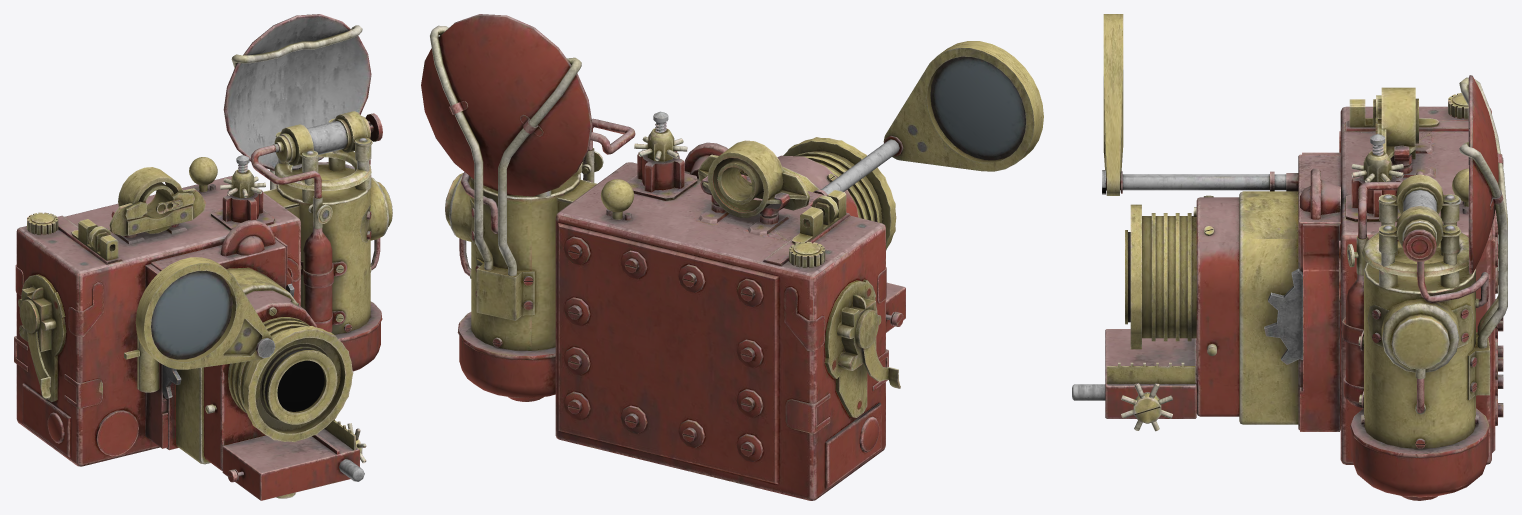
Rendered from SteampunkCamera.glb.
3 views of the same model, side by side, from view 1: azimuth 30°, elevation 25°; view 2: azimuth 150°, elevation 25°; view 3: azimuth 270°, elevation 25° (orthographic). The views are drawn at different scales.
Visible parts, largest first — view 1: defaultMaterial (×3); view 2: defaultMaterial (×3); view 3: defaultMaterial (×3).
Part boxes in pixels (x1=…): defaultMaterial (×3): x1=14, y1=14, x2=392, y2=500; defaultMaterial (×3): x1=421, y1=14, x2=1043, y2=500; defaultMaterial (×3): x1=1072, y1=14, x2=1507, y2=500.
Size of the model in its own units: 2 by 1.74 by 1.67.
3 materials, 3 textured.
